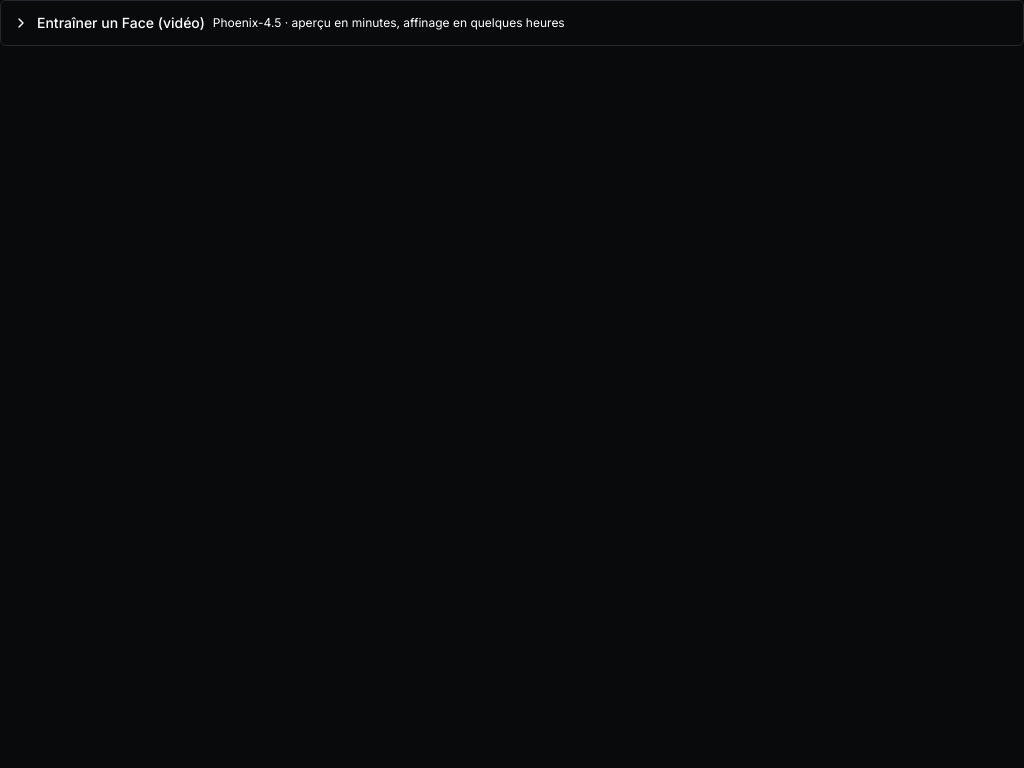
it: TavusFaceTrainer › polls the status every 30 s while a Face is training, then stops
What coordinates should you click on to do the following:
click the text "Entraîner un Face (vidéo)"
I would click on:
 (121, 23)
Its box is [37, 13, 205, 33].
Wait 120000 ms
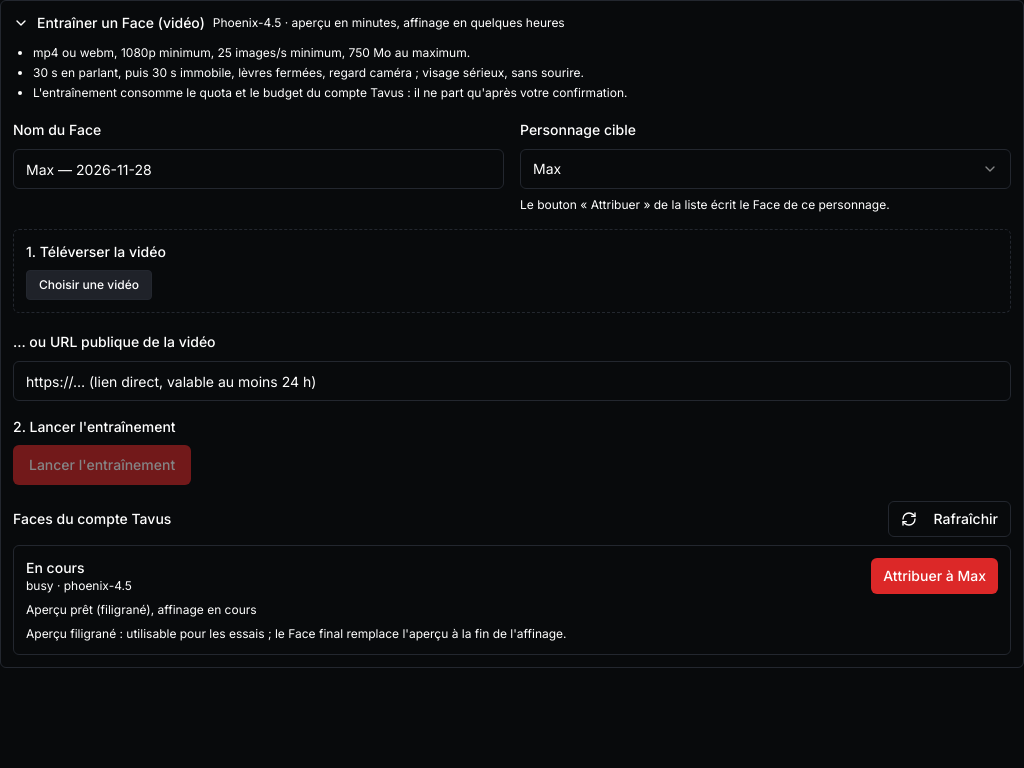
Expected: the text "En cours" is shown, [26, 559, 84, 576]
Expected: the text "Aperçu prêt (filigrané), affinage en cours" is shown, [26, 602, 257, 617]
